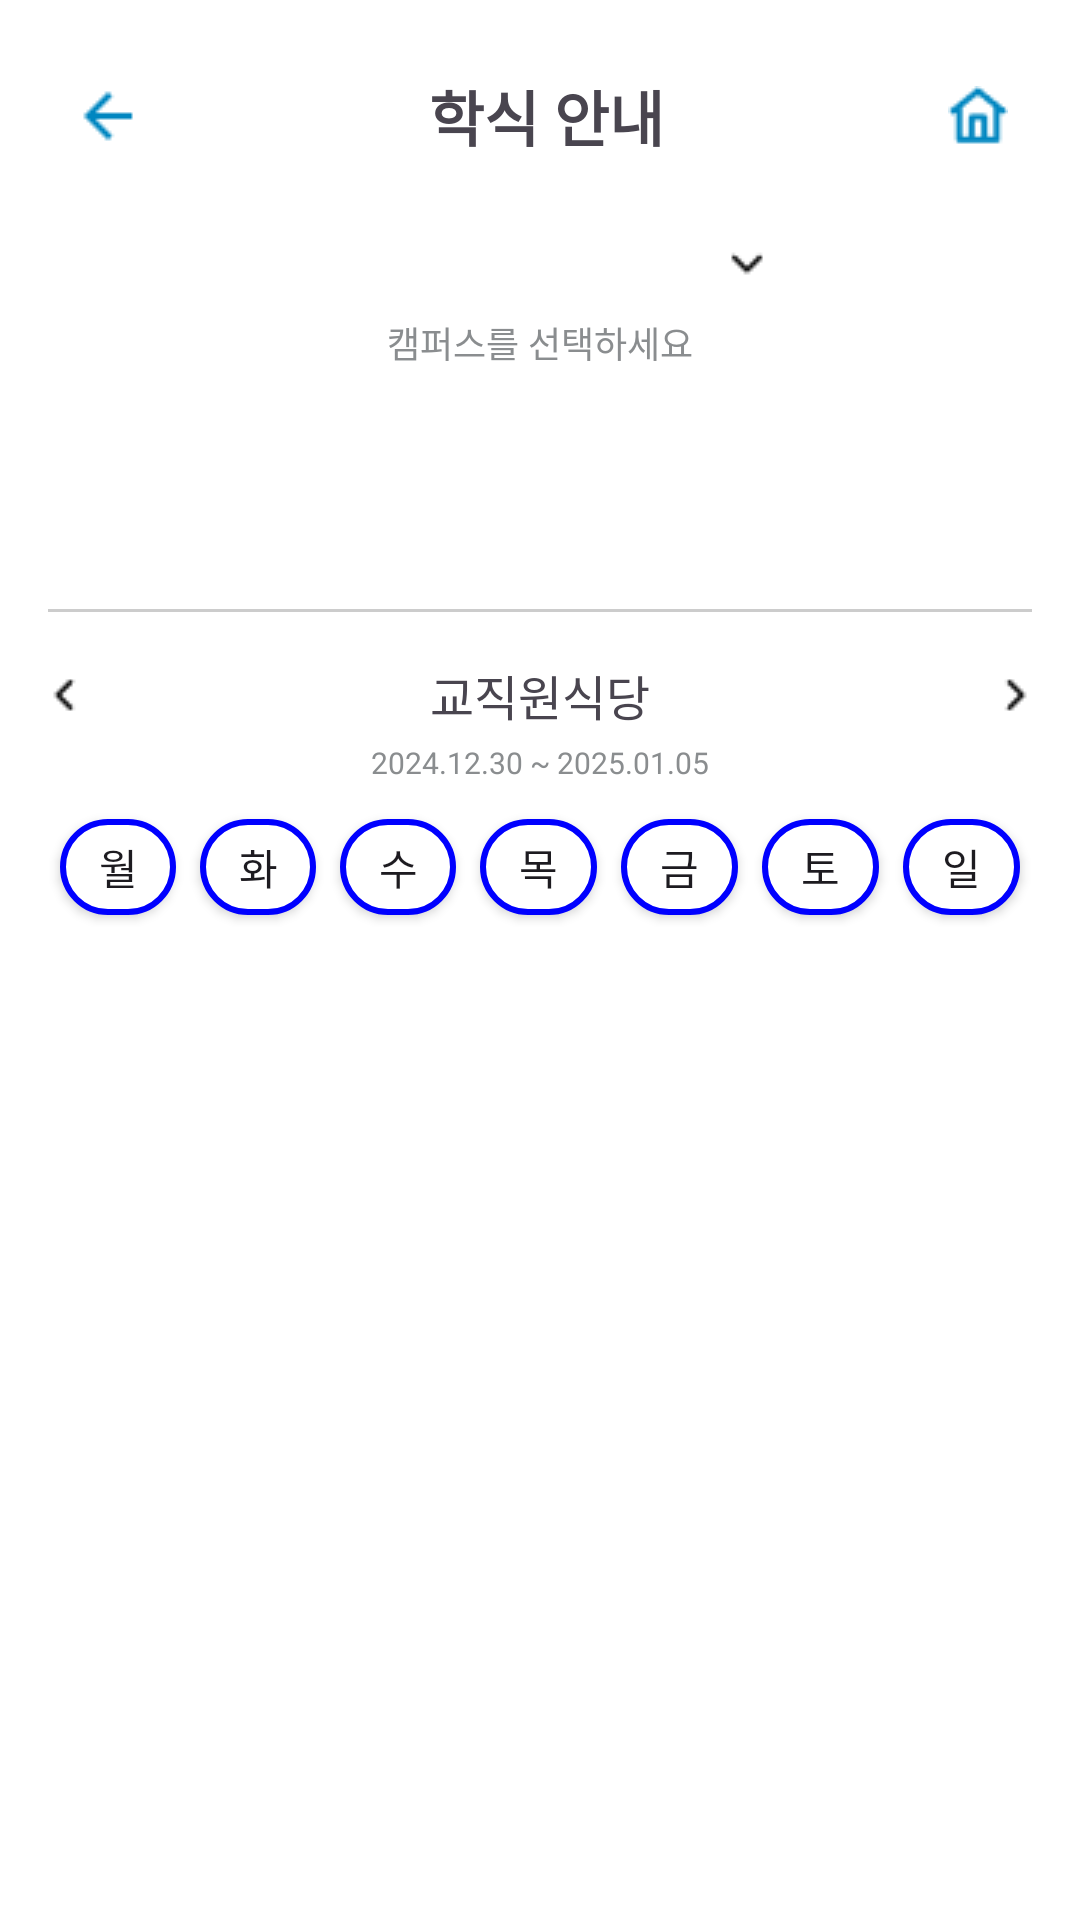

Locate icon controls on the screen. Image size 1080px x 1920px, boxes as BBox(x1, y1, x2, y2).
back: BBox(83, 91, 133, 141)
home: BBox(948, 86, 1008, 144)
left: BBox(53, 679, 75, 711)
right: BBox(1005, 679, 1027, 711)
